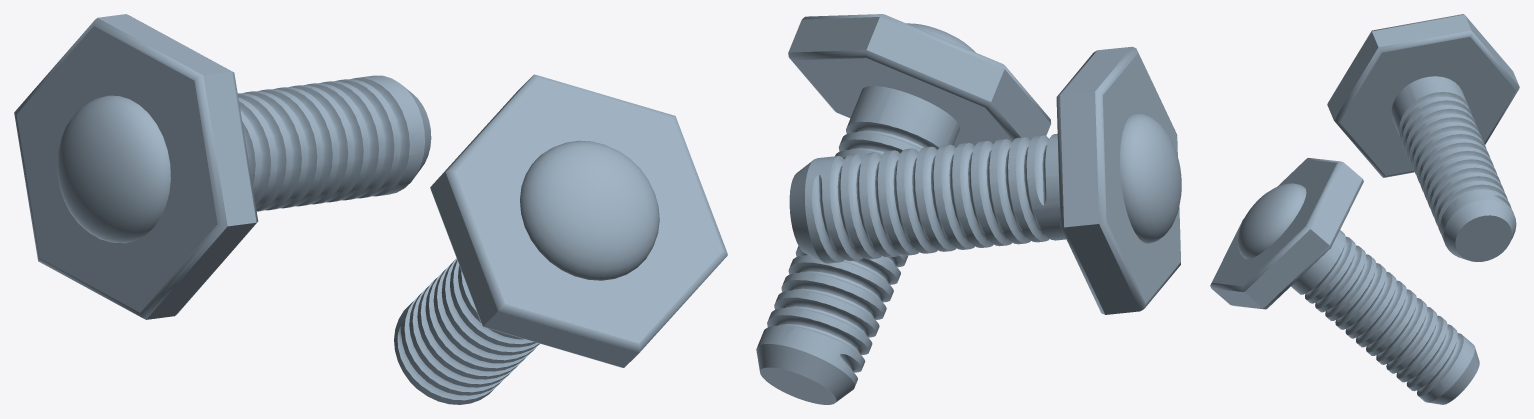
Rendered from 260401_neji.glb.
3 views of the same model, side by side, from view 1: azimuth 30°, elevation 25°; view 2: azimuth 150°, elevation 25°; view 3: azimuth 270°, elevation 25° (orthographic). The views are drawn at different scales.
Parts seen in each view (by area): view 1: 円柱; view 2: 円柱; view 3: 円柱.
Boxes of the visible parts, bbox=[...] form: 円柱: bbox=[14, 14, 727, 404]; 円柱: bbox=[756, 14, 1181, 404]; 円柱: bbox=[1210, 14, 1519, 404].
Bounding box in the file's own units: 9.32 × 7.82 × 7.77.
